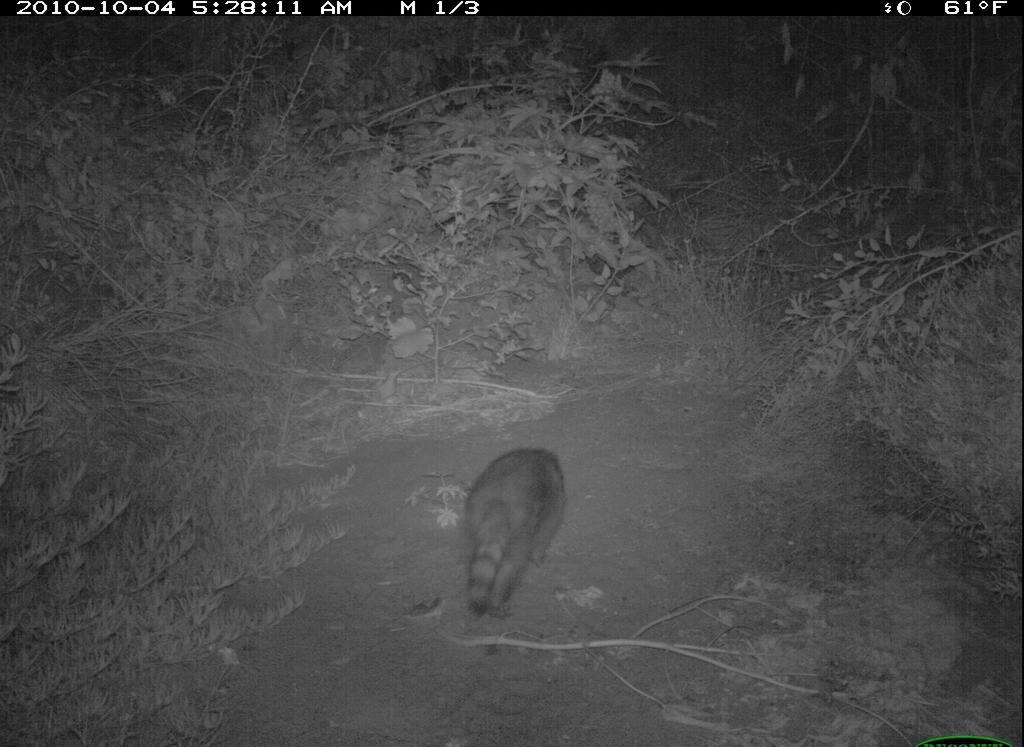raccoon: (455, 441, 574, 621)
